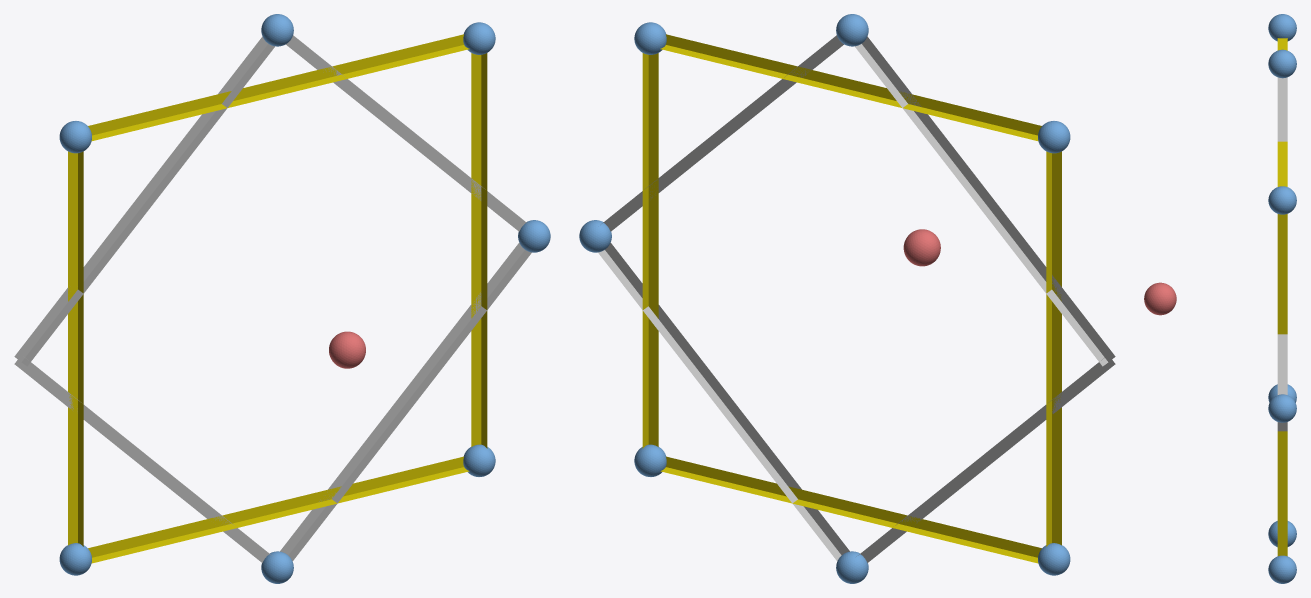
File: P9_crystal_tessarec.glb
3 renders of one model, left to right at view 1: azimuth 30°, elevation 25°; view 2: azimuth 150°, elevation 25°; view 3: azimuth 270°, elevation 25°, orthographic. The views are drawn at different scales.
Visible parts, largest first — view 1: world; view 2: world; view 3: world.
Boxes of the visible parts, left/top/right/bottom form: world: left=14, top=14, right=550, bottom=583; world: left=579, top=14, right=1115, bottom=583; world: left=1144, top=14, right=1296, bottom=583.
Bounding box in the file's own units: 1.96 × 2 × 0.5585.
